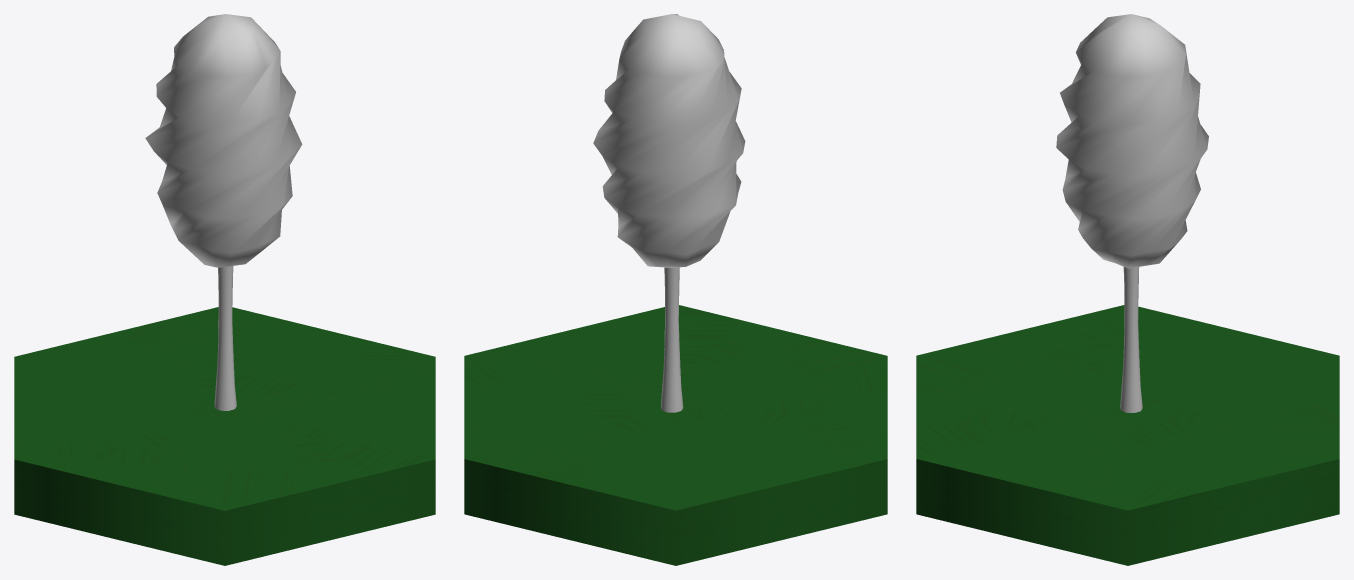
The picture shows the model from 3 angles, left to right: view 1: azimuth 30°, elevation 25°; view 2: azimuth 150°, elevation 25°; view 3: azimuth 270°, elevation 25°; orthographic projection.
Visible parts, largest first — view 1: Cylinder001, tree_leaves_leaves1, tree_trunk_trunk1; view 2: Cylinder001, tree_leaves_leaves1, tree_trunk_trunk1; view 3: Cylinder001, tree_leaves_leaves1, tree_trunk_trunk1.
Boxes of the visible parts, left/top/right/bottom form: Cylinder001: left=14, top=307, right=435, bottom=565; tree_leaves_leaves1: left=145, top=14, right=302, bottom=267; tree_trunk_trunk1: left=214, top=266, right=236, bottom=410; Cylinder001: left=464, top=305, right=887, bottom=565; tree_leaves_leaves1: left=593, top=14, right=745, bottom=267; tree_trunk_trunk1: left=661, top=267, right=683, bottom=412; Cylinder001: left=916, top=305, right=1339, bottom=565; tree_leaves_leaves1: left=1056, top=14, right=1208, bottom=268; tree_trunk_trunk1: left=1120, top=267, right=1142, bottom=412.
Size of the model in its own units: 78.74 by 79.95 by 68.19.
